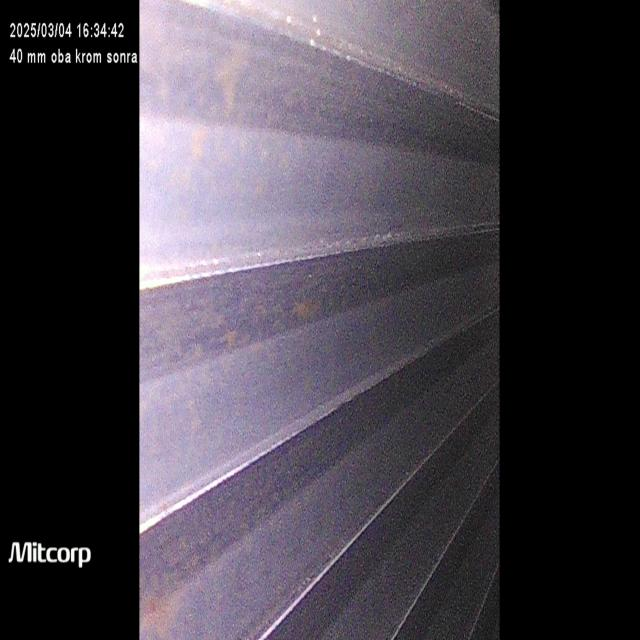hata_4.2: (138, 485, 274, 640), (145, 274, 278, 410), (147, 76, 226, 194), (207, 20, 266, 134), (278, 271, 341, 340), (173, 397, 213, 501)
